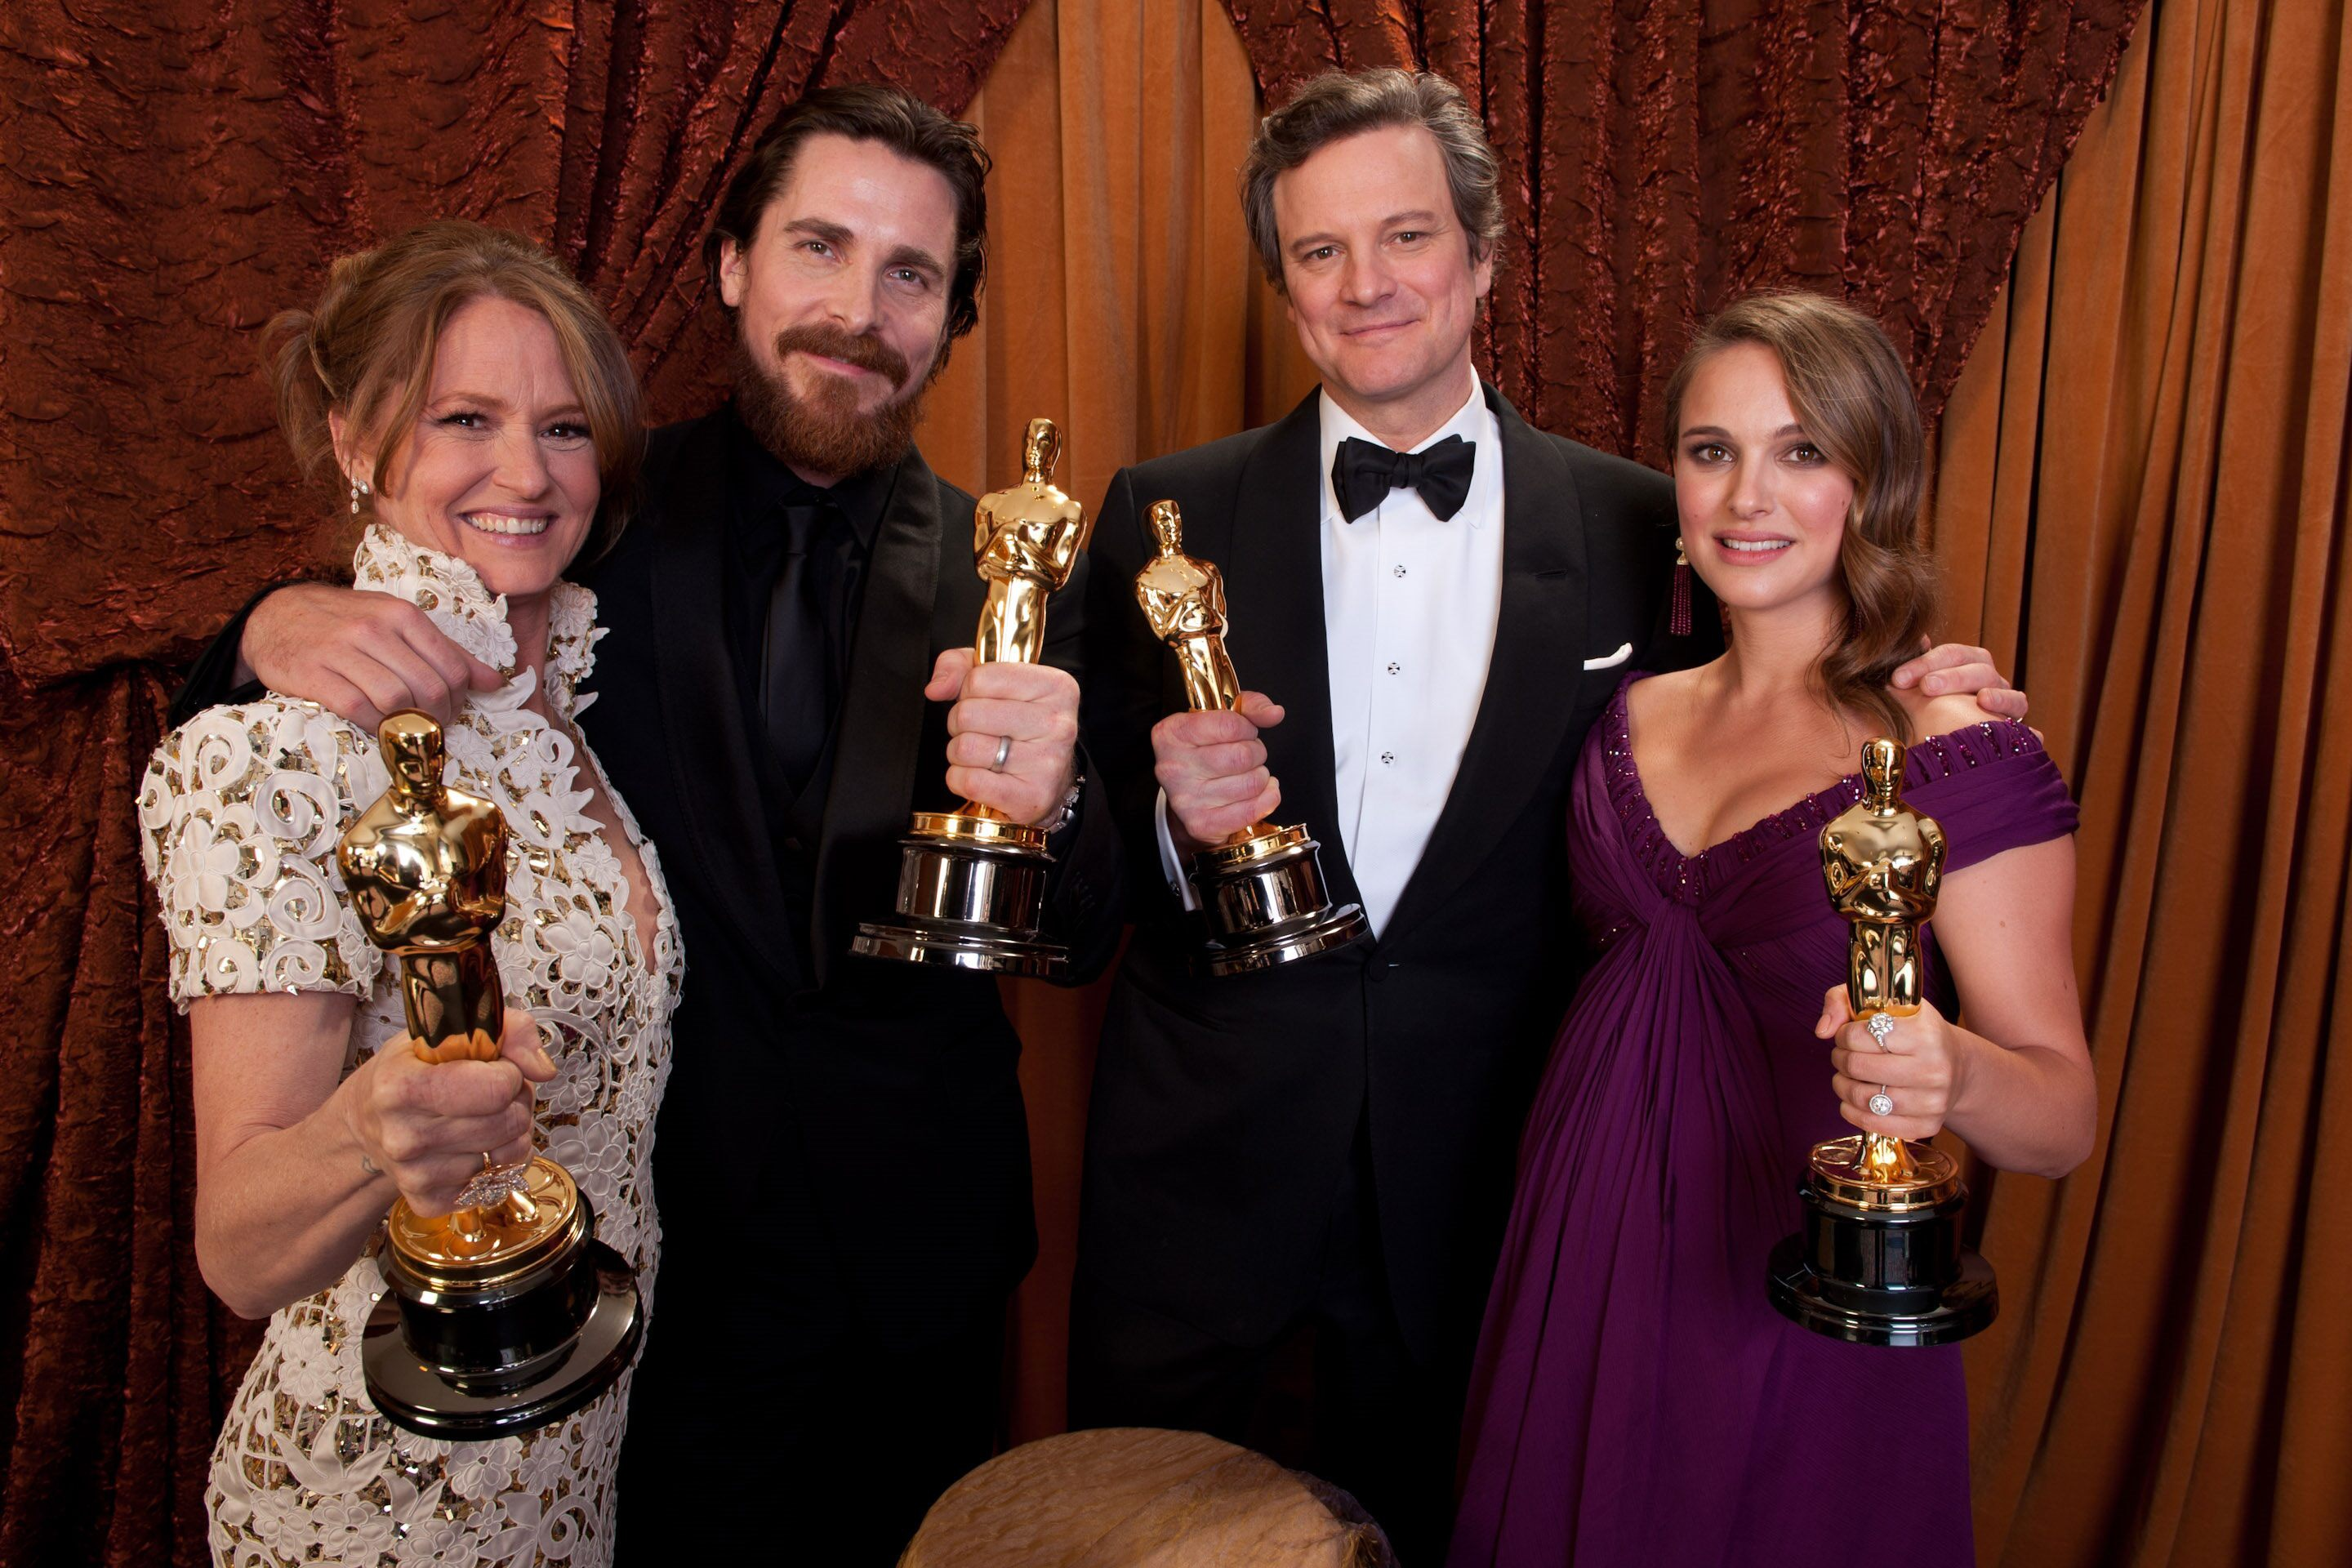bad: (721, 196, 983, 458), (1643, 381, 1862, 600), (406, 359, 625, 576), (1256, 164, 1473, 381)
